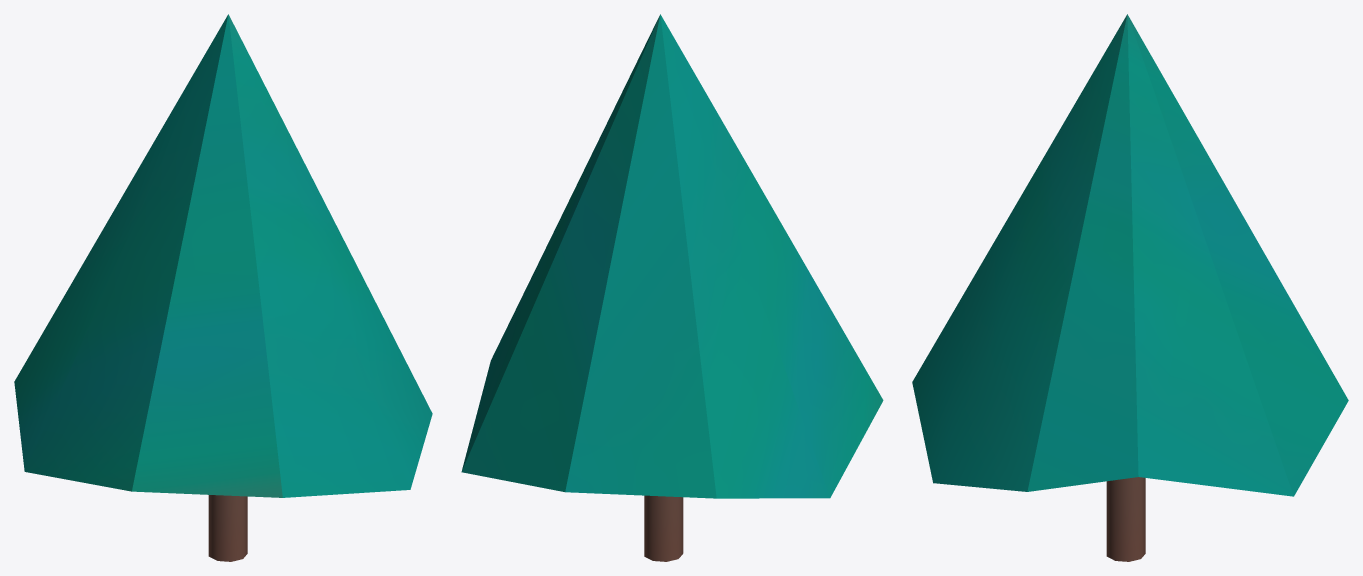
3 renders of one model, left to right at view 1: azimuth 30°, elevation 25°; view 2: azimuth 150°, elevation 25°; view 3: azimuth 270°, elevation 25°, orthographic.
Visible parts, largest first — view 1: крона.001, ствол.002; view 2: крона.001, ствол.002; view 3: крона.001, ствол.002.
Boxes of the visible parts, x1,y1,x2,y2 form: крона.001: (14,14,432,497); ствол.002: (208,495,247,561); крона.001: (461,14,883,498); ствол.002: (644,495,683,561); крона.001: (912,14,1348,496); ствол.002: (1106,477,1145,561).
Bounding box in the file's own units: 254 × 374 × 274.
